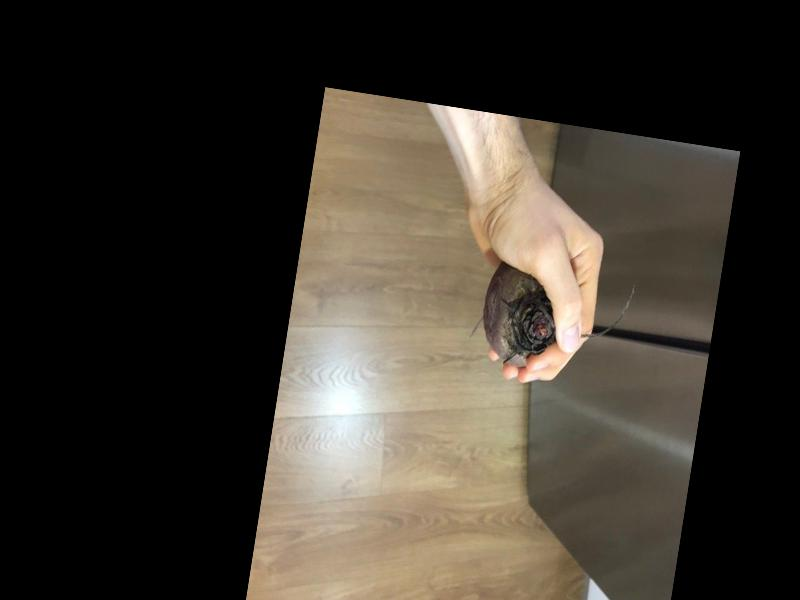Beet: (475, 259, 636, 383)
